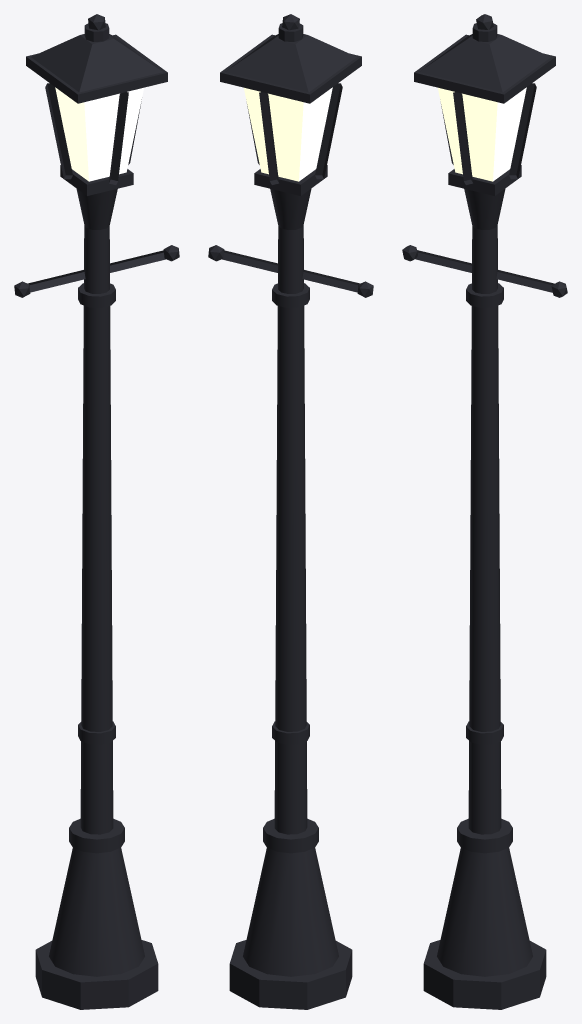
The model's file is lamp_post.glb.
The picture shows the model from 3 angles, left to right: view 1: azimuth 30°, elevation 25°; view 2: azimuth 150°, elevation 25°; view 3: azimuth 330°, elevation 25°; orthographic projection.
Parts seen in each view (by area): view 1: body, light; view 2: body, light; view 3: body, light.
Boxes of the visible parts, box(x1,y1,x2,y2) form: body: box(14, 14, 179, 1009); light: box(55, 87, 143, 181); body: box(208, 14, 373, 1009); light: box(244, 87, 332, 181); body: box(402, 14, 567, 1009); light: box(438, 87, 526, 181).
Bounding box in the file's own units: 0.7444 × 4.22 × 0.5.
